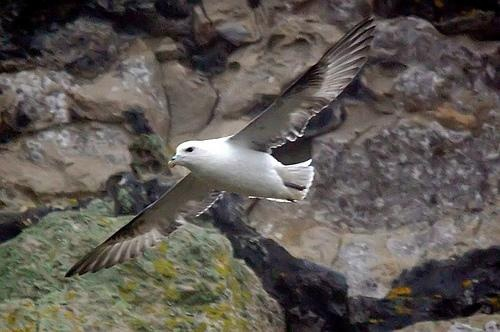bird: (67, 18, 379, 277)
